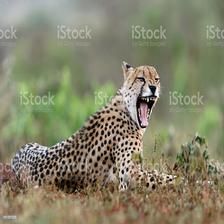Cheetah: (0, 60, 220, 194)
